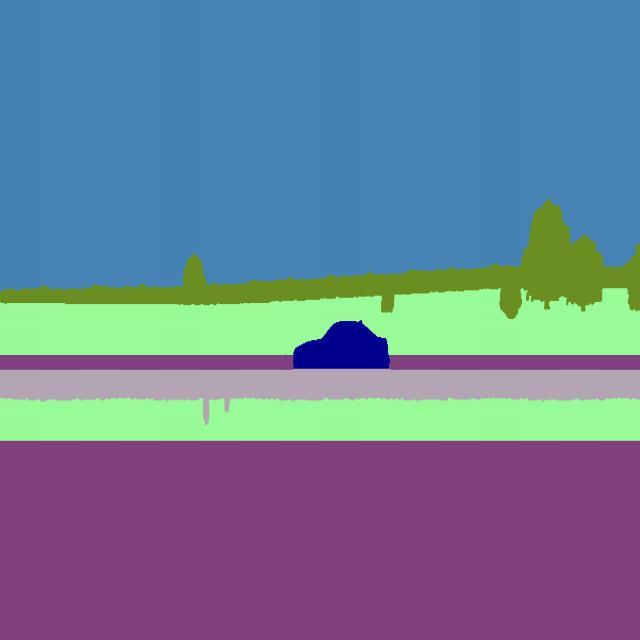safe: (290, 318, 396, 382)
